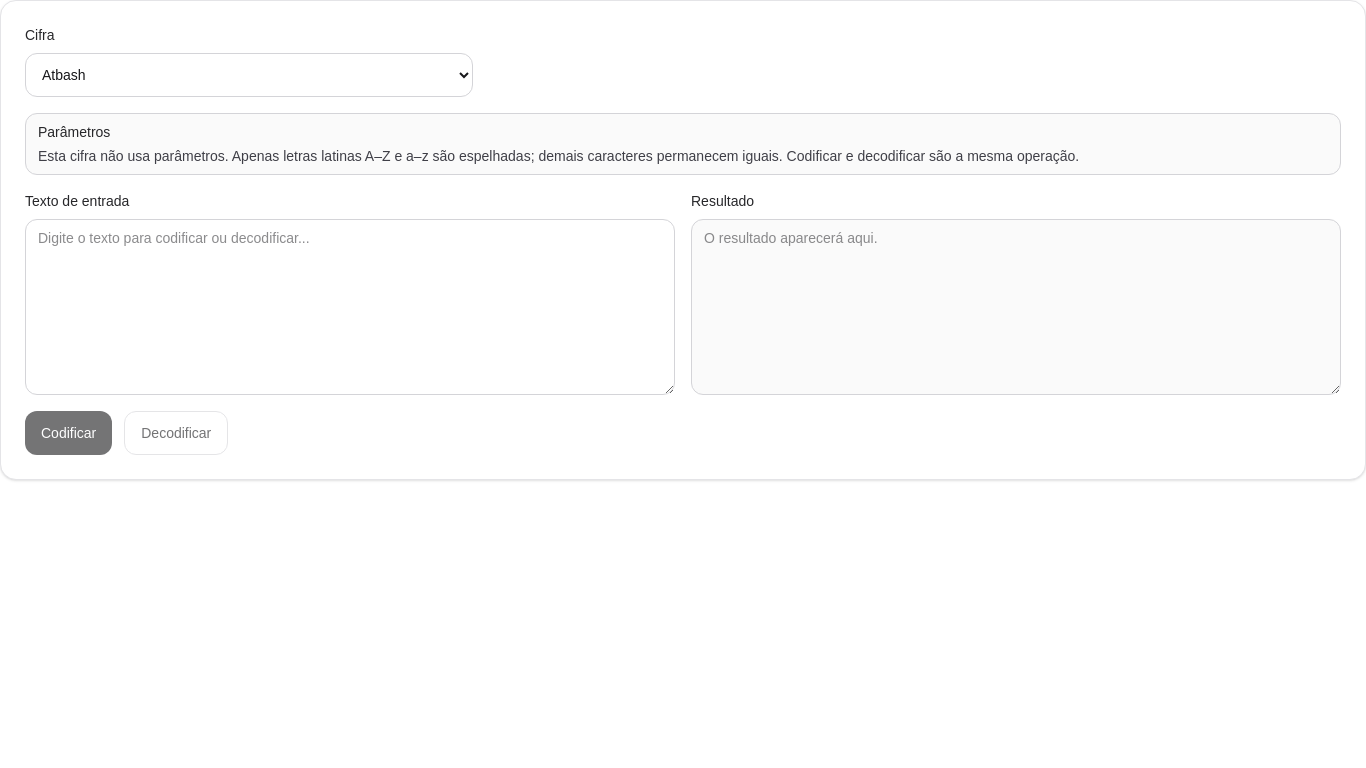
Test case: CipherWorkspace › remove o alerta de transformação ao trocar de cifra
The image size is (1366, 768).
Select "Morse" in the dropdown labelled "Cifra" at (249, 75), box [25,53,473,97]
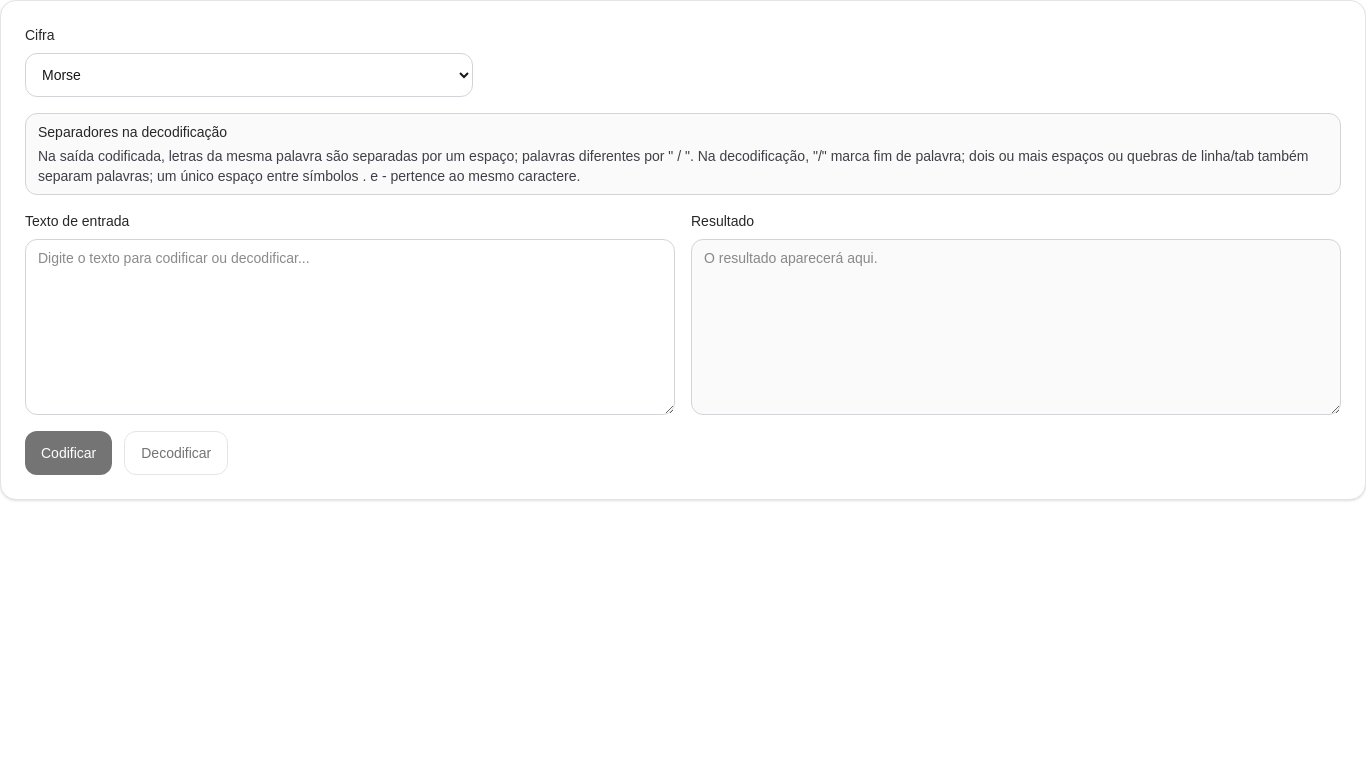
Type "..-.-" into the text box labelled "Texto de entrada" at (350, 327), box [25,239,675,415]
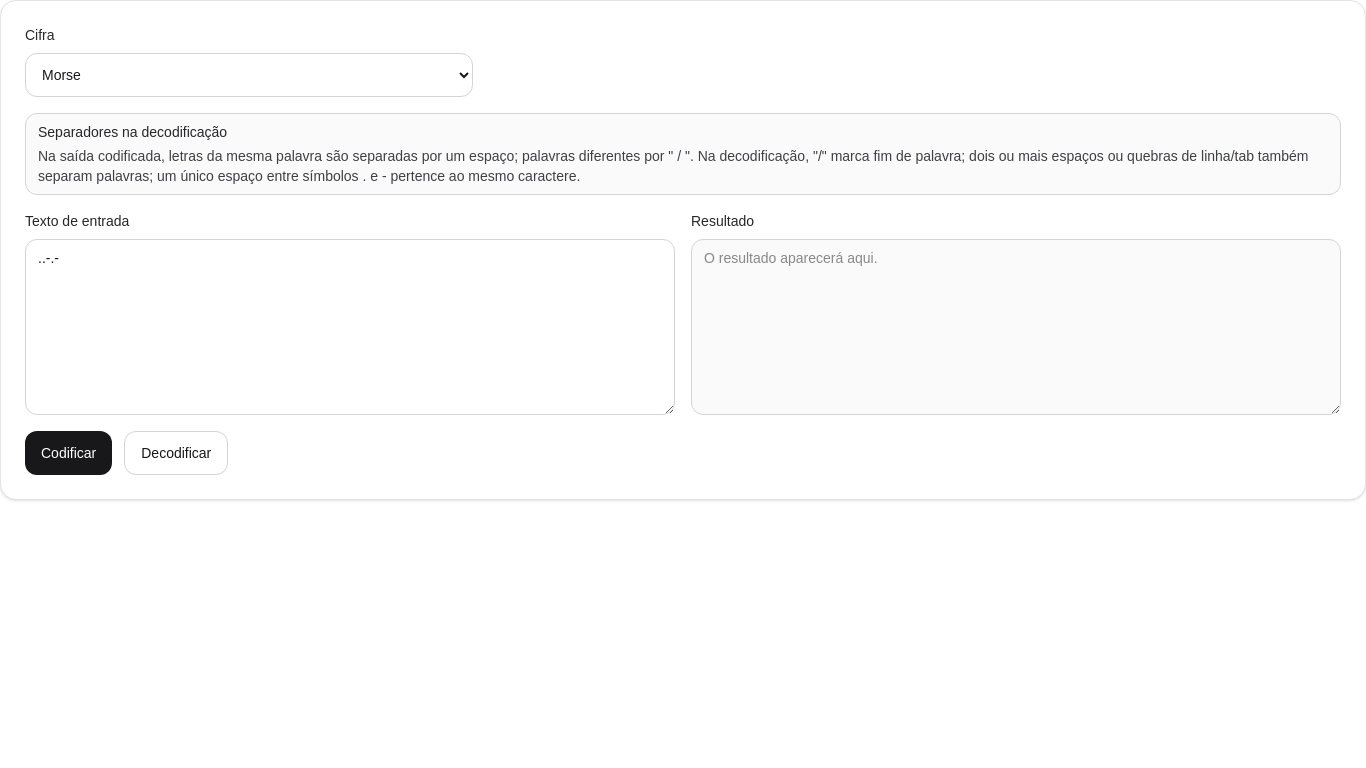
Click the button "Decodificar" at (176, 453), box [124,431,228,475]
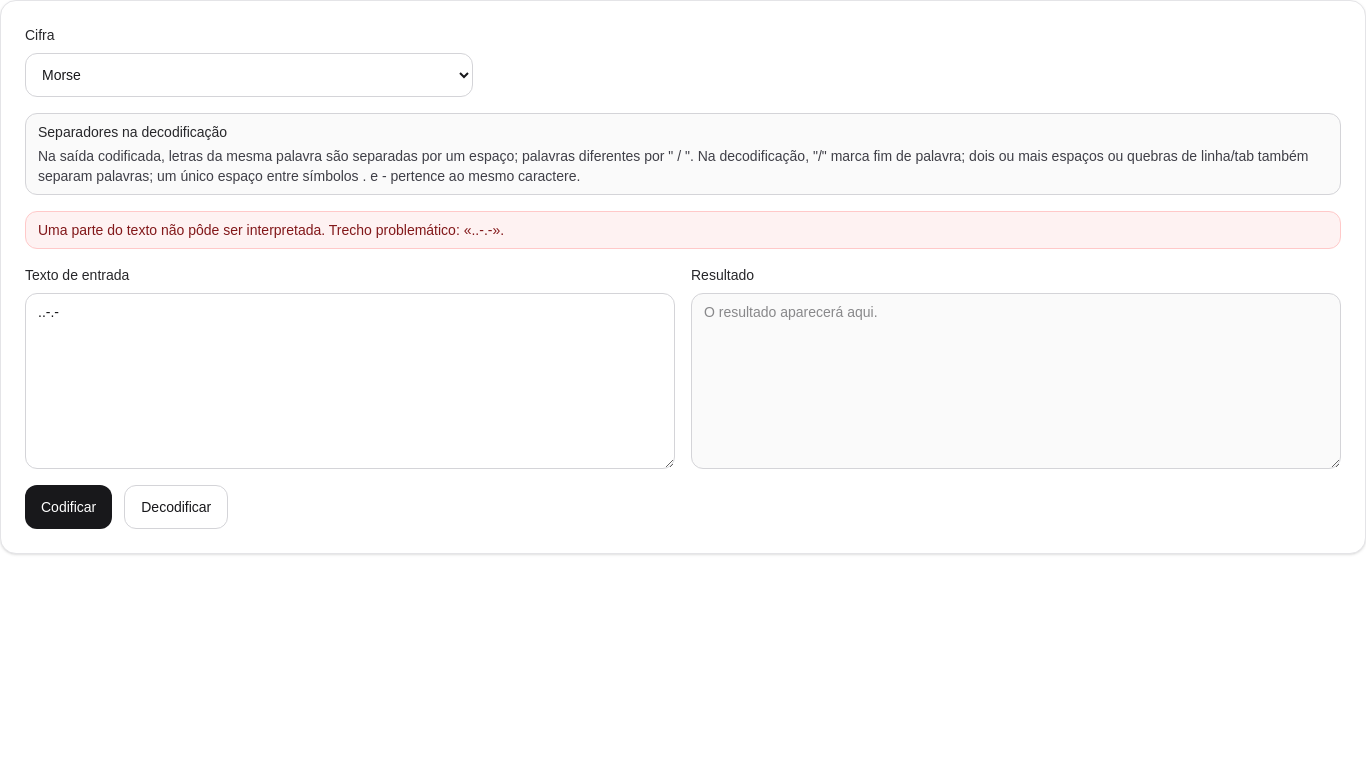
Check: the message "Uma parte do texto não pôde ser interpretada. Trecho problemático: «..-.-»." is shown, box [25,211,1341,249]
Select "Atbash" in the dropdown labelled "Cifra" at (249, 75), box [25,53,473,97]
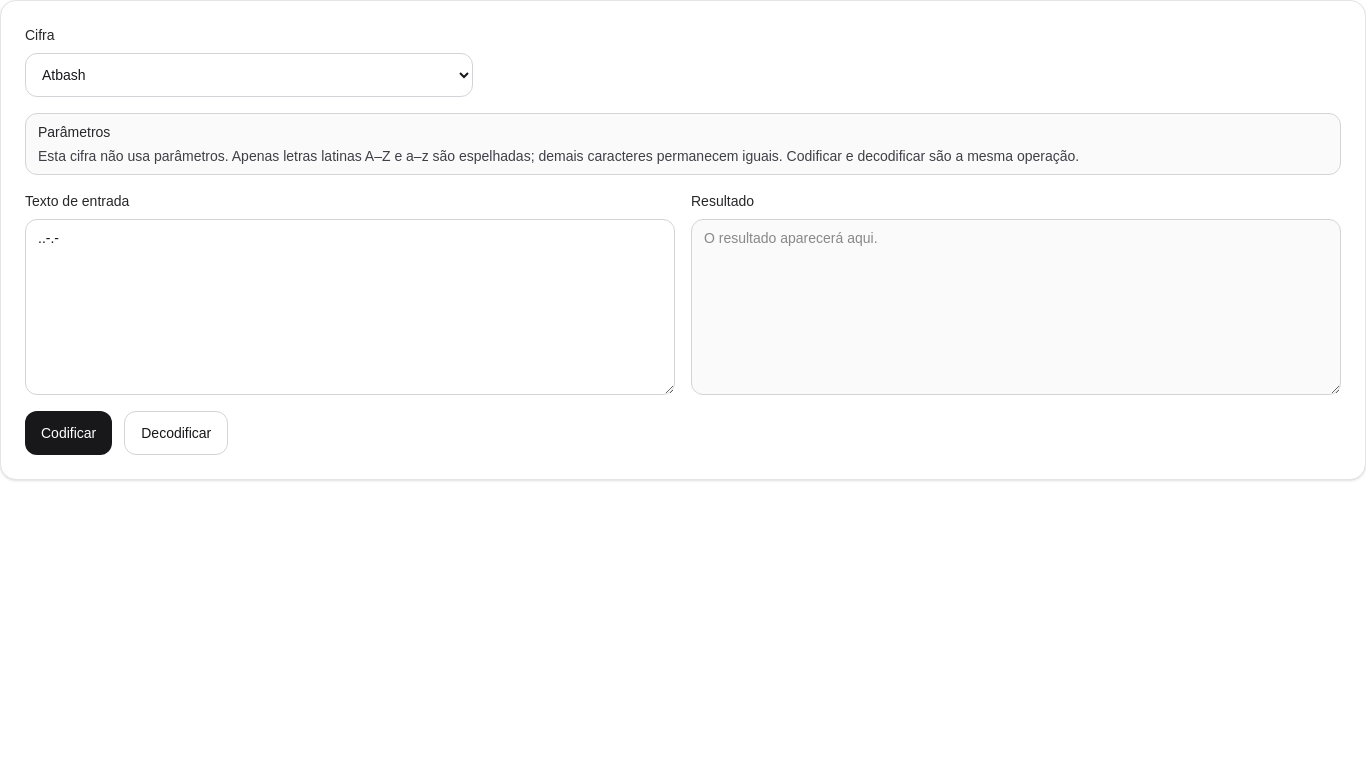
Check: the message "Uma parte do texto não pôde ser interpretada. Trecho problemático: «..-.-»." is gone
